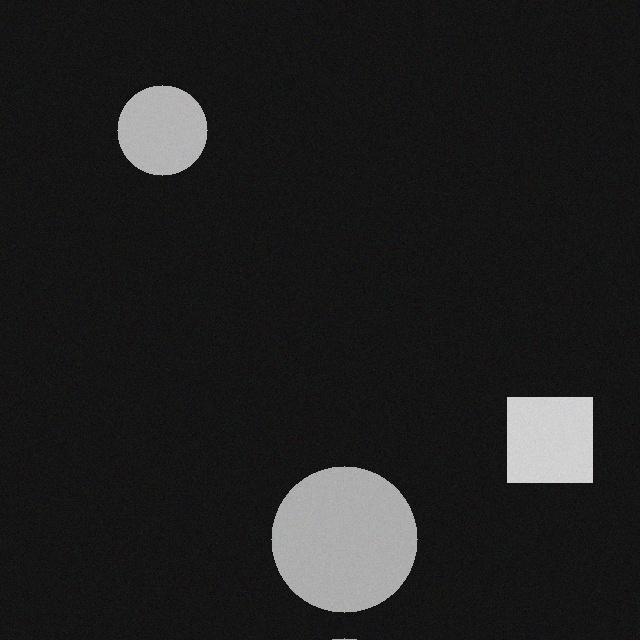circle: (285, 480, 431, 626), (131, 99, 221, 189)
square: (521, 411, 606, 496)
